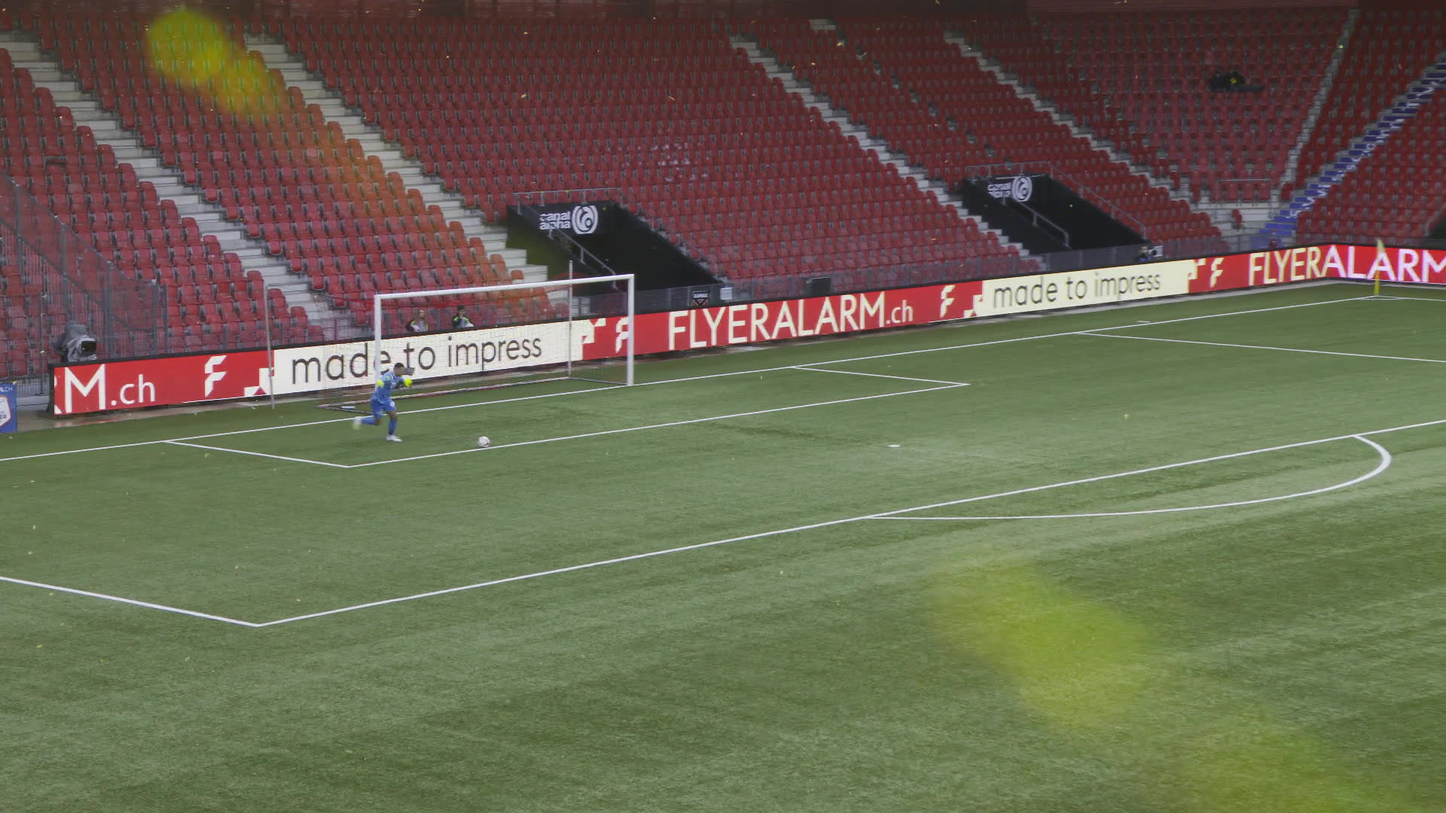ball: (477, 436, 490, 447)
player: (351, 361, 412, 442)
